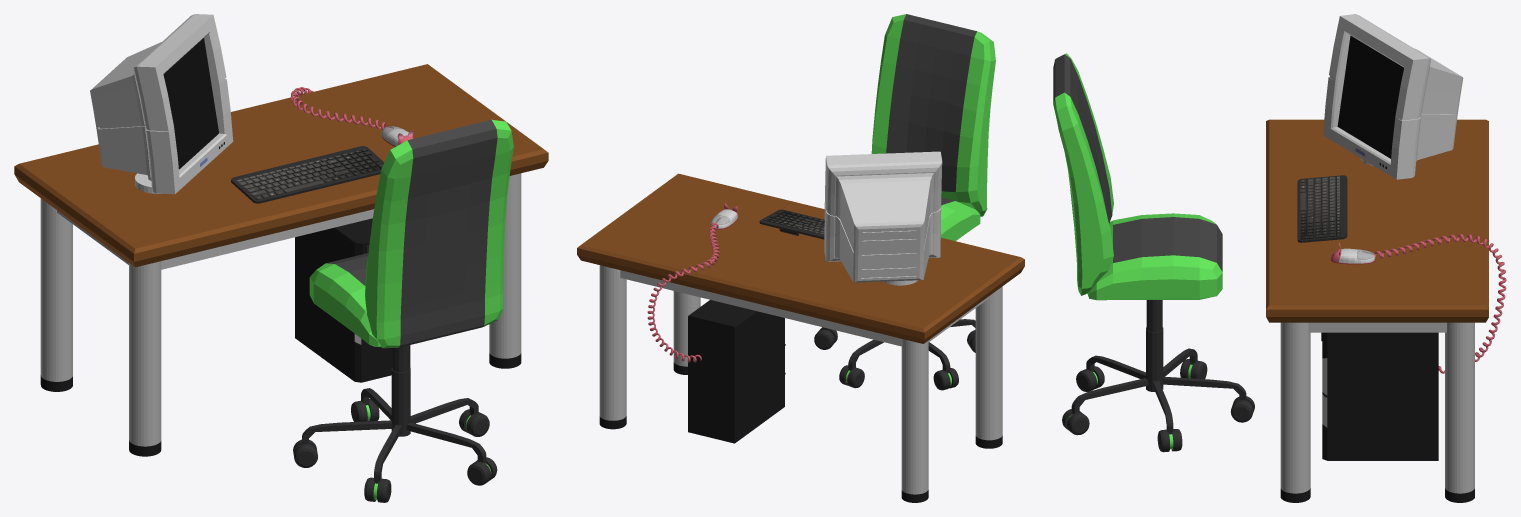
The model's file is Table_n4.fbx.
3 renders of one model, left to right at view 1: azimuth 30°, elevation 25°; view 2: azimuth 150°, elevation 25°; view 3: azimuth 270°, elevation 25°, orthographic. The views are drawn at different scales.
Parts seen in each view (by area): view 1: Table, Chaise, Ecran PC, TourPC, Clavier, Souris; view 2: Table, Chaise, Ecran PC, TourPC, Souris, Clavier; view 3: Table, Chaise, Ecran PC, TourPC, Clavier, Souris.
Part boxes in pixels (box(x1,y1,x2,y2)): Table: box(14, 64, 548, 456); Chaise: box(293, 119, 513, 502); Ecran PC: box(90, 14, 233, 194); TourPC: box(295, 218, 410, 382); Clavier: box(231, 146, 384, 203); Souris: box(290, 87, 413, 146); Table: box(577, 173, 1024, 502); Chaise: box(814, 14, 995, 390); Ecran PC: box(824, 151, 942, 285); TourPC: box(688, 300, 785, 443); Souris: box(647, 203, 738, 362); Clavier: box(759, 209, 824, 239); Table: box(1266, 119, 1488, 502); Chaise: box(1053, 53, 1254, 452); Ecran PC: box(1323, 14, 1463, 179); TourPC: box(1321, 332, 1438, 460); Clavier: box(1297, 175, 1347, 242); Souris: box(1331, 234, 1506, 373).
Bounding box in the file's own units: 200 × 169 × 203.
